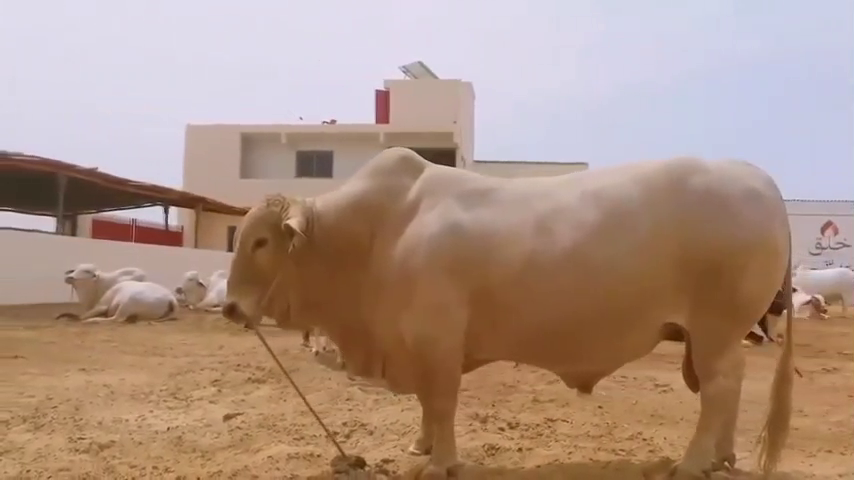bo: (220, 142, 800, 479), (103, 283, 204, 326), (790, 259, 854, 308), (64, 263, 148, 300), (781, 284, 835, 325), (177, 261, 223, 301)
